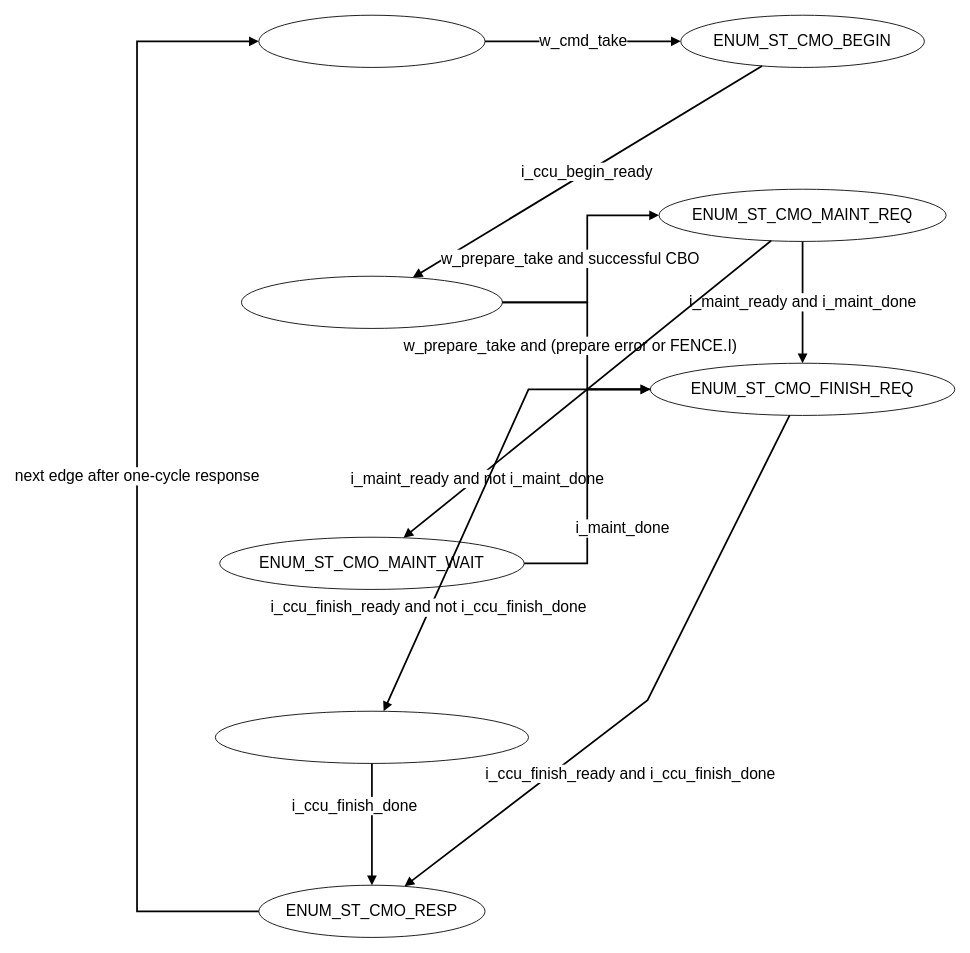
Some shapes in this 970 by 953 pixel diagram are drawn without their labels. Here are the shapes that lost their labels. From the top down, the centre of each, then its label:
At pixel 371 40: "ENUM_ST_CMO_IDLE".
At pixel 371 301: "ENUM_ST_CMO_PREPARE".
At pixel 371 736: "ENUM_ST_CMO_FINISH_WAIT".
